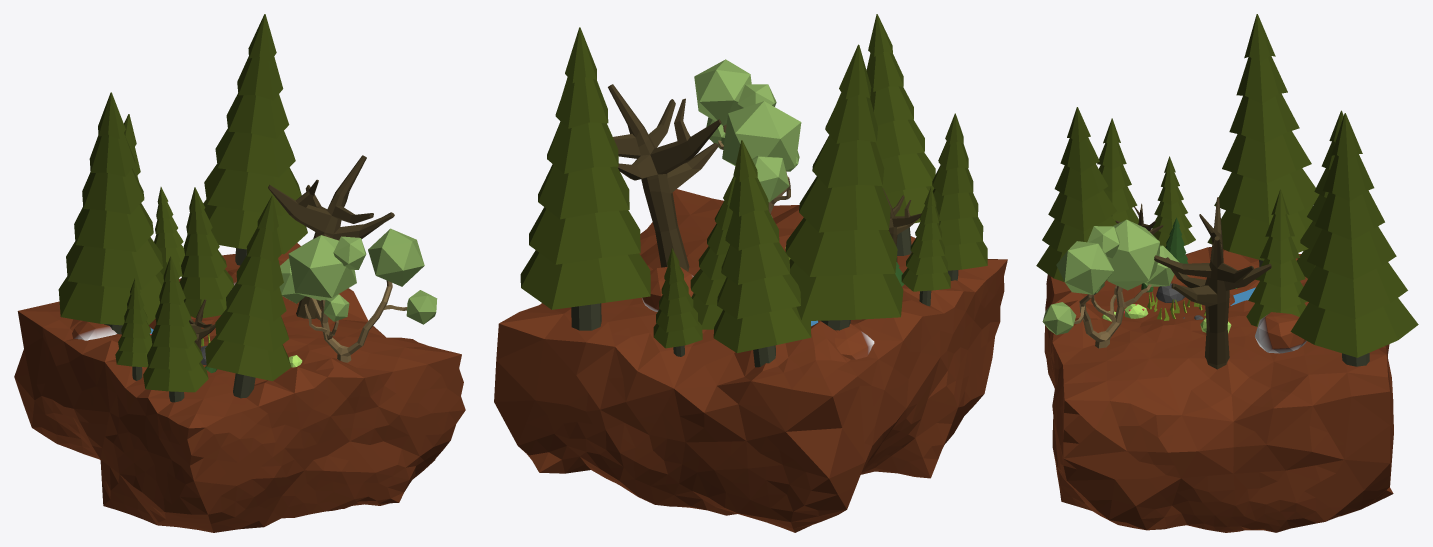
File: forestSwiming.fbx
3 renders of one model, left to right at view 1: azimuth 30°, elevation 25°; view 2: azimuth 150°, elevation 25°; view 3: azimuth 270°, elevation 25°, orthographic. The views are drawn at different scales.
Visible parts, largest first — view 1: Икосфера, SapinHiver.006, SapinHiver.007, Tree_lp_11.001, SapinHiver.001, SapinHiver.004, SapinHiver.003, Arbre Automne.001, SapinHiver.002, SapinHiver.005, caillou1.001; view 2: Икосфера, SapinHiver.007, SapinHiver.006, SapinHiver.015, Tree_lp_11.001, Arbre Automne.001, SapinHiver.001, SapinHiver.004, SapinHiver.002, SapinHiver.005, SapinHiver.003, caillou1.001 (+2 smaller); view 3: Икосфера, SapinHiver.007, SapinHiver.006, Tree_lp_11.001, SapinHiver.001, Arbre Automne.001, SapinHiver.003, SapinHiver.004, SapinHiver.002, caillou1.002, SapinHiver.015, Cylinder.005.
Part boxes in pixels (x1,y1,x2,y2): Икосфера: [14, 243, 465, 532]; SapinHiver.006: [58, 92, 163, 334]; SapinHiver.007: [203, 14, 307, 265]; Tree_lp_11.001: [279, 228, 437, 362]; SapinHiver.001: [205, 195, 291, 398]; SapinHiver.004: [143, 256, 208, 402]; SapinHiver.003: [179, 187, 233, 318]; Arbre Automne.001: [268, 155, 394, 319]; SapinHiver.002: [115, 278, 152, 380]; SapinHiver.005: [154, 187, 184, 276]; caillou1.001: [72, 321, 116, 340]; Икосфера: [494, 189, 1007, 532]; SapinHiver.007: [520, 27, 650, 330]; SapinHiver.006: [785, 44, 903, 330]; SapinHiver.015: [713, 140, 811, 367]; Tree_lp_11.001: [694, 59, 801, 217]; Arbre Automne.001: [608, 84, 721, 271]; SapinHiver.001: [866, 14, 935, 255]; SapinHiver.004: [932, 113, 987, 280]; SapinHiver.002: [901, 187, 950, 306]; SapinHiver.005: [653, 248, 702, 356]; SapinHiver.003: [690, 176, 735, 329]; caillou1.001: [835, 323, 874, 359]; Икосфера: [1044, 247, 1393, 532]; SapinHiver.007: [1290, 113, 1418, 366]; SapinHiver.006: [1207, 14, 1319, 266]; Tree_lp_11.001: [1042, 219, 1179, 348]; SapinHiver.001: [1036, 107, 1116, 294]; Arbre Automne.001: [1154, 197, 1271, 369]; SapinHiver.003: [1246, 189, 1307, 326]; SapinHiver.004: [1097, 118, 1138, 224]; SapinHiver.002: [1152, 156, 1195, 247]; caillou1.002: [1255, 312, 1306, 353]; SapinHiver.015: [1297, 110, 1343, 278]; Cylinder.005: [1165, 217, 1188, 263].
Bounding box in the file's own units: 140 × 174 × 149.
